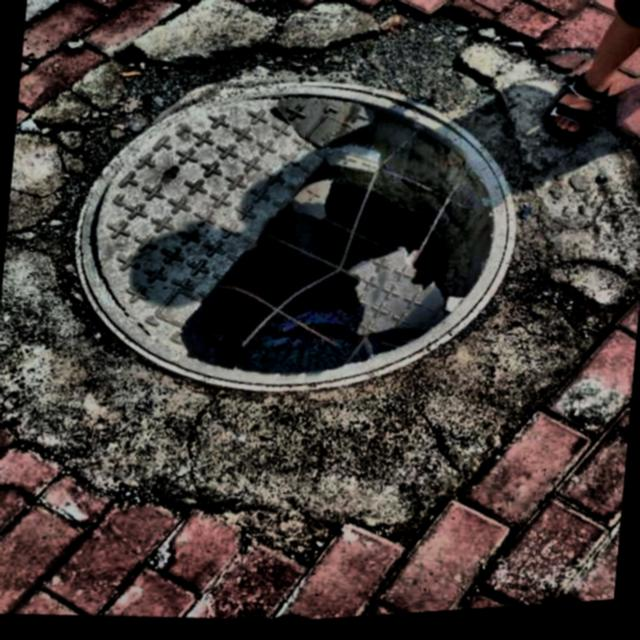Open Manhole: (94, 86, 514, 394)
